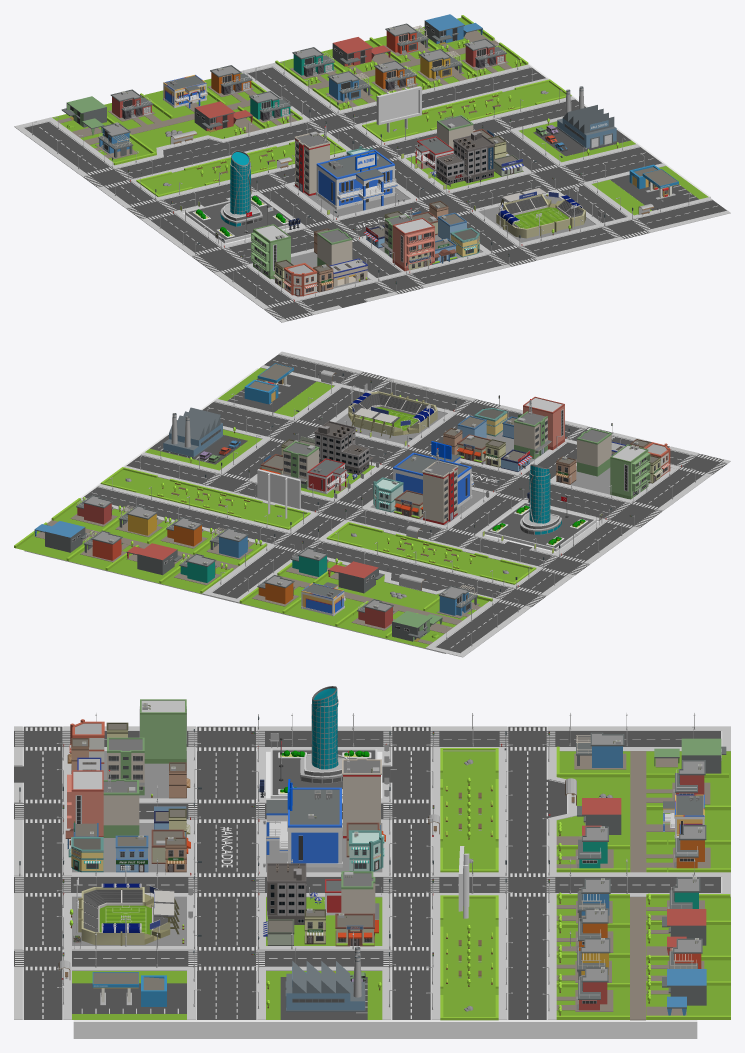
File: city-final.glb
3 views of the same model, one above another, from view 1: azimuth 30°, elevation 25°; view 2: azimuth 150°, elevation 25°; view 3: azimuth 270°, elevation 25° (orthographic). The views are drawn at different scales.
Parts seen in each view (by area): view 1: Plaza01.003; view 2: Plaza01.003; view 3: Plaza01.003.
Boxes of the visible parts, x1,y1,x2,y2 form: Plaza01.003: (14,14,730,322); Plaza01.003: (14,351,730,657); Plaza01.003: (14,686,730,1038).
Size of the model in its own units: 13.25 by 2.21 by 13.62.
Materials: 65 (63 with a texture image).
